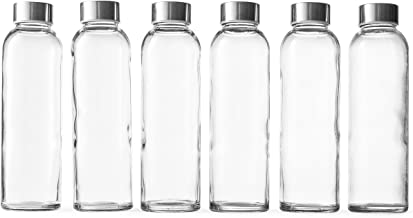glass_bottle: (65, 1, 137, 214), (345, 1, 413, 216), (205, 1, 273, 215), (276, 1, 343, 215), (137, 1, 204, 214), (1, 1, 65, 214)
